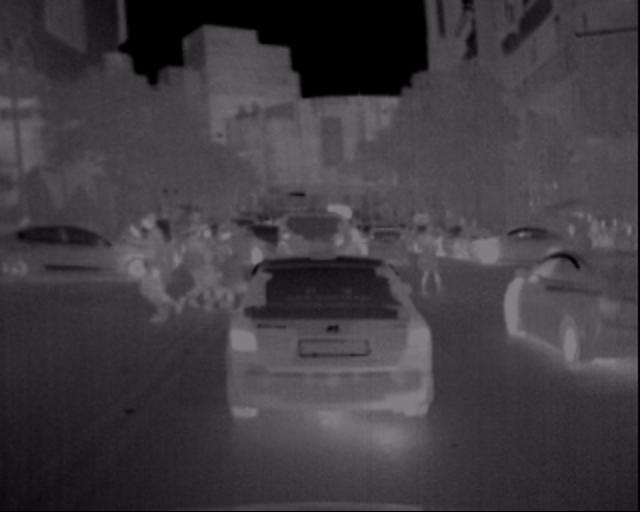person: (119, 207, 191, 333), (196, 218, 256, 323), (178, 217, 224, 322), (332, 220, 381, 316), (269, 218, 310, 305), (414, 211, 451, 307), (547, 214, 586, 305), (326, 228, 363, 316), (573, 205, 635, 255), (0, 205, 40, 241)
